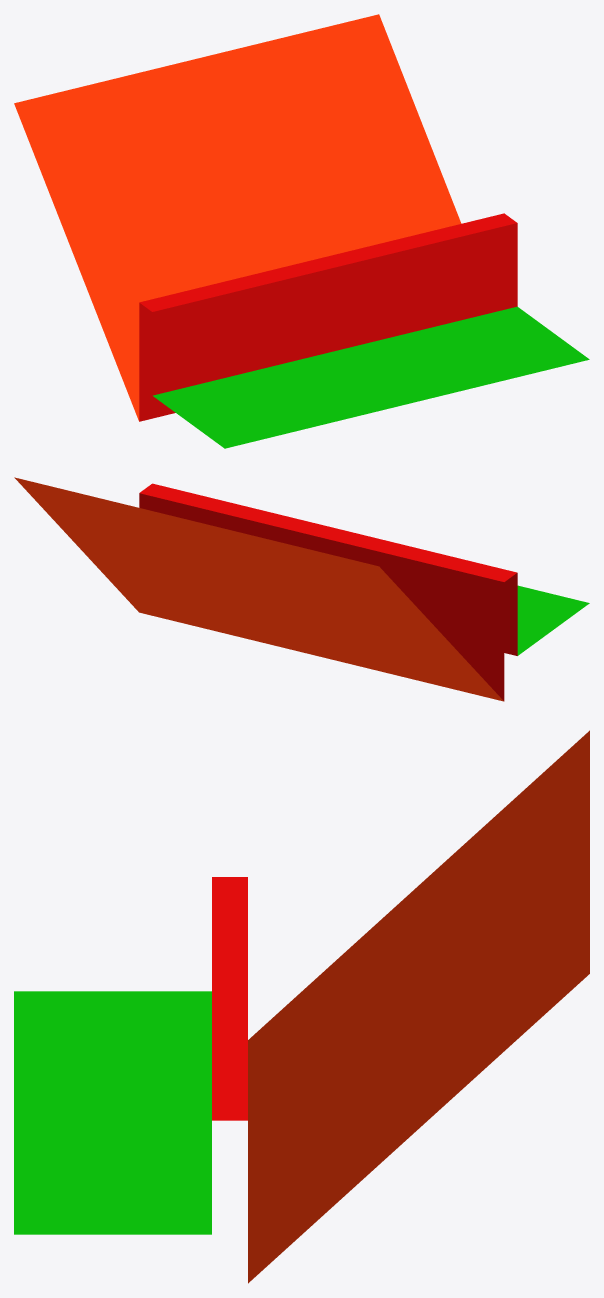
3 renders of one model, top to bottom at view 1: azimuth 30°, elevation 25°; view 2: azimuth 150°, elevation 25°; view 3: azimuth 270°, elevation 25°, orthographic. The views are drawn at different scales.
Parts seen in each view (by area): view 1: None_S_W_E_E_S_W_E_E_None; view 2: None_S_W_E_E_S_W_E_E_None; view 3: None_S_W_E_E_S_W_E_E_None.
Boxes of the visible parts, x1,y1,x2,y2 form: None_S_W_E_E_S_W_E_E_None: (14,14,589,448); None_S_W_E_E_S_W_E_E_None: (14,477,589,701); None_S_W_E_E_S_W_E_E_None: (14,730,589,1283).
Size of the model in its own units: 100 by 59.38 by 100.
